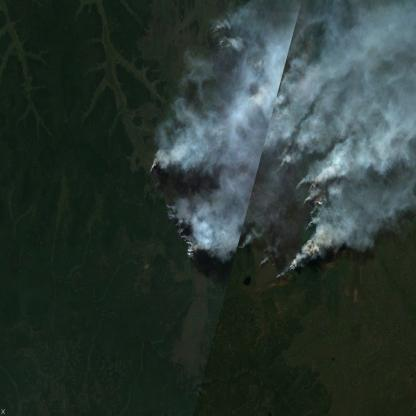fire: (236, 150, 333, 287), (145, 136, 212, 280), (205, 13, 244, 63)
